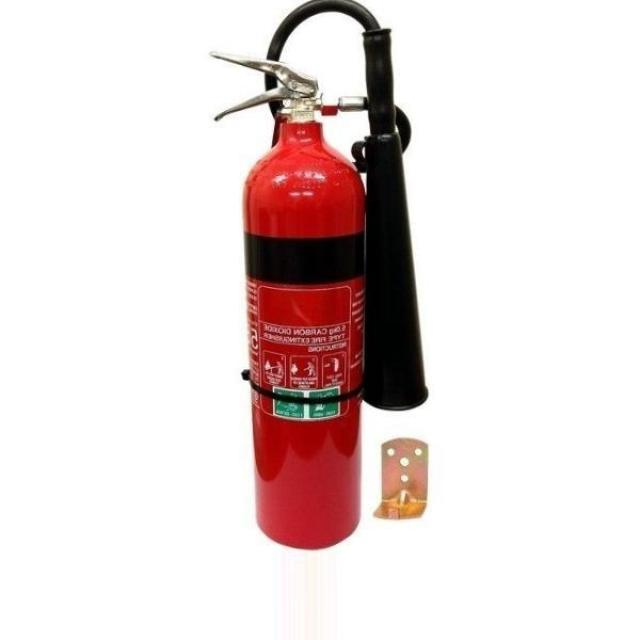fire_extinguisher: (199, 0, 435, 556)
